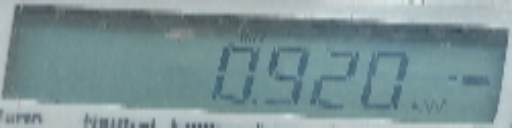0: (362, 42, 407, 117), (211, 39, 257, 102)
2: (311, 41, 356, 116)
9: (268, 39, 303, 110)
d: (250, 96, 263, 110)
